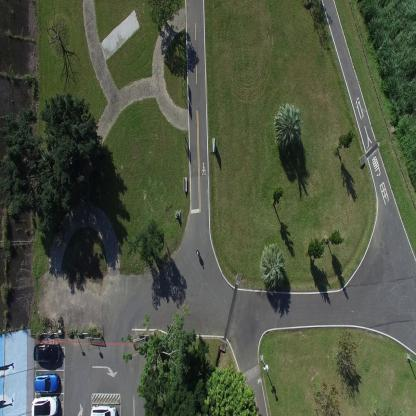car: (33, 342, 61, 364), (30, 394, 58, 416), (34, 371, 59, 394), (90, 404, 117, 415)
